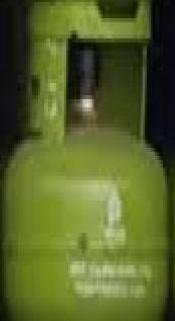cylinder: (1, 1, 175, 321)
